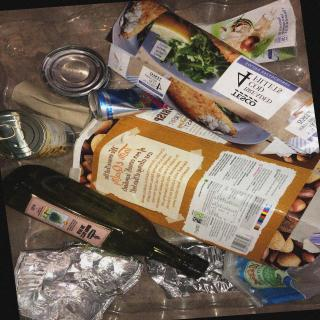METAL: (147, 244, 225, 304), (41, 49, 109, 104), (1, 110, 67, 160), (90, 89, 148, 117), (301, 67, 320, 71)
